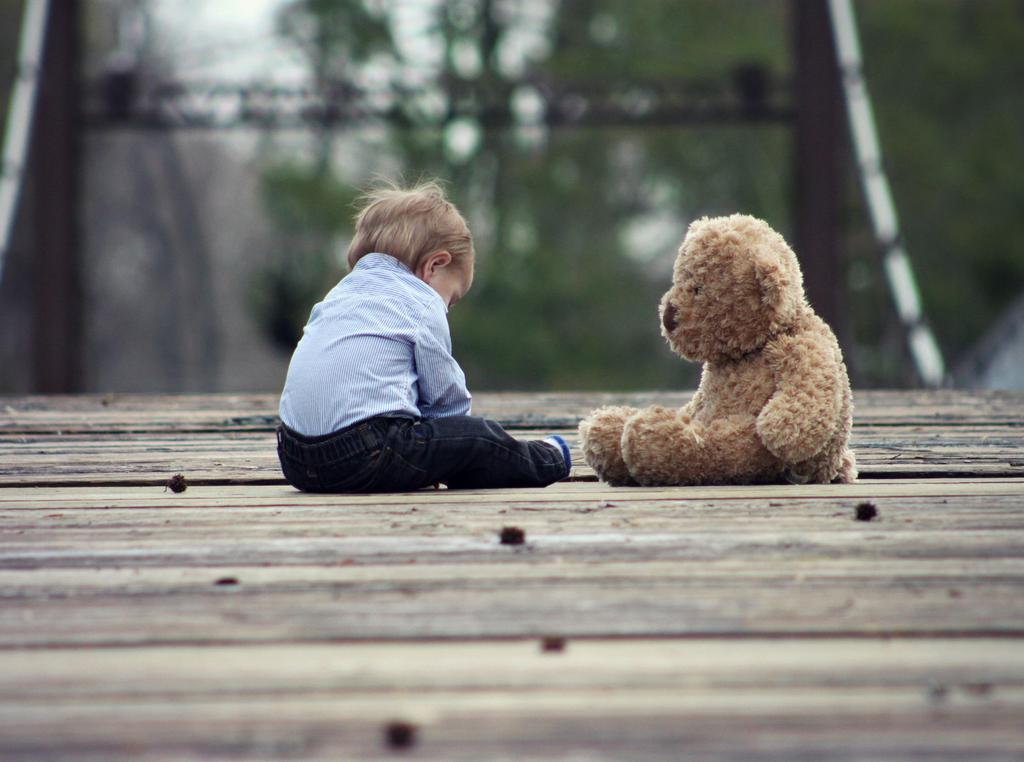child: (257, 176, 582, 496)
